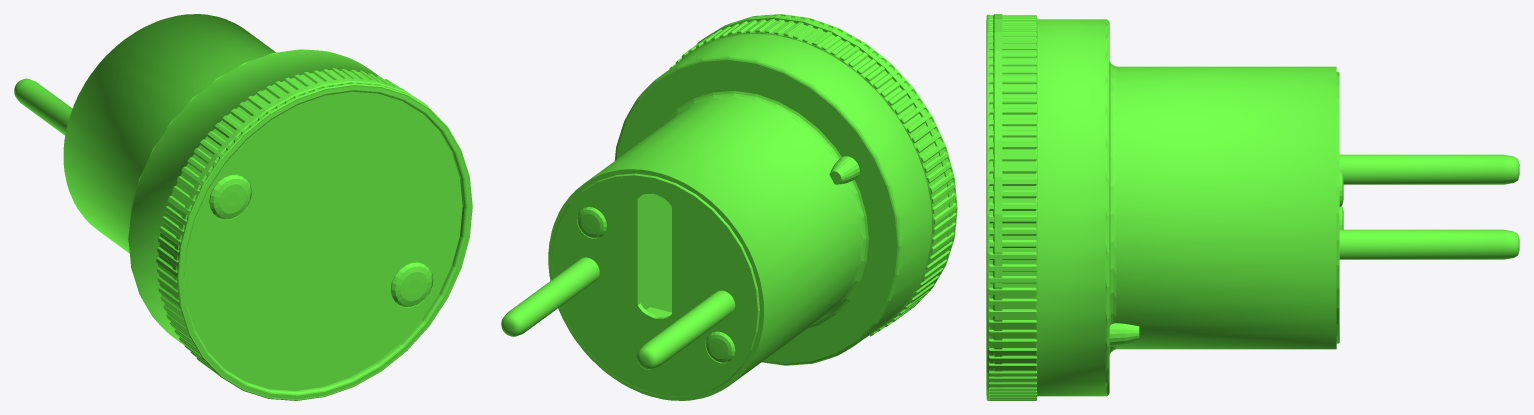
File: copripresa.fbx
The picture shows the model from 3 angles, left to right: view 1: azimuth 30°, elevation 25°; view 2: azimuth 150°, elevation 25°; view 3: azimuth 270°, elevation 25°; orthographic projection. The views are drawn at different scales.
Visible parts, largest first — view 1: copripresa; view 2: copripresa; view 3: copripresa.
Boxes of the visible parts, bbox=[...] form: copripresa: bbox=[14, 14, 472, 400]; copripresa: bbox=[501, 14, 957, 400]; copripresa: bbox=[986, 14, 1519, 400].
Size of the model in its own units: 3.83 by 3.84 by 5.28.
